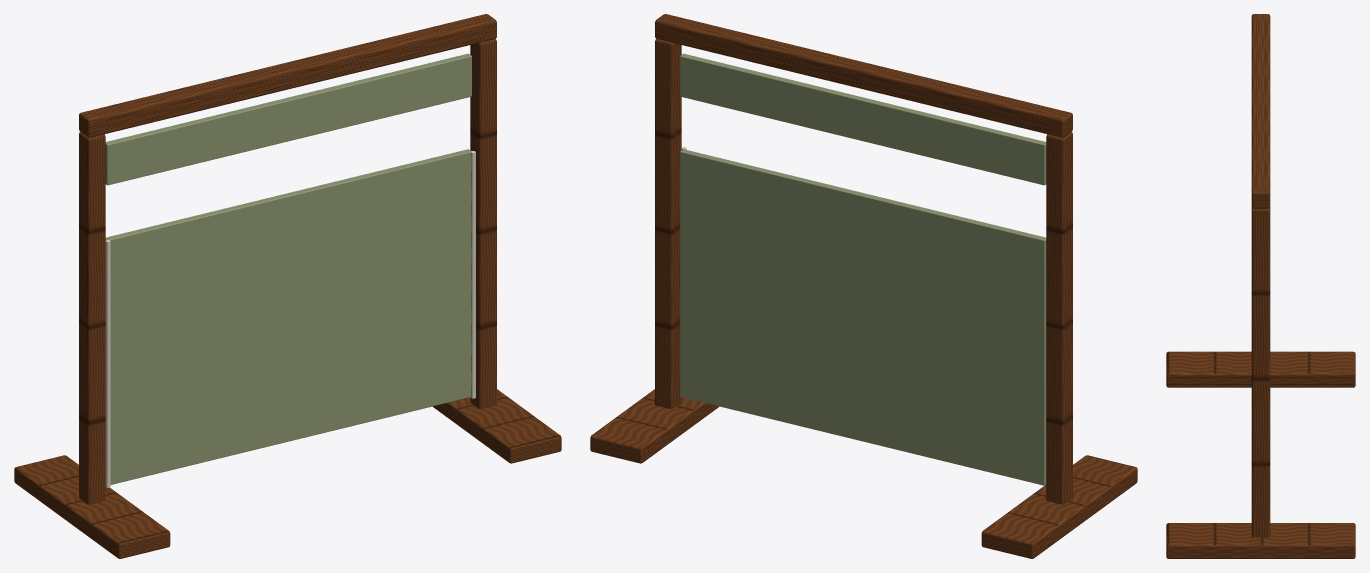
File: creature-husbandry-and-transport-nest-observation-scre-703792b5__24009.glb
The picture shows the model from 3 angles, left to right: view 1: azimuth 30°, elevation 25°; view 2: azimuth 150°, elevation 25°; view 3: azimuth 270°, elevation 25°; orthographic projection. The views are drawn at different scales.
Visible parts, largest first — view 1: nest-observation-screen; view 2: nest-observation-screen; view 3: nest-observation-screen.
Boxes of the visible parts, bbox=[...] form: nest-observation-screen: bbox=[14, 14, 561, 558]; nest-observation-screen: bbox=[590, 14, 1137, 558]; nest-observation-screen: bbox=[1166, 14, 1355, 558].
Size of the model in its own units: 1.7 by 1.47 by 0.7.
3 materials, 1 textured.
